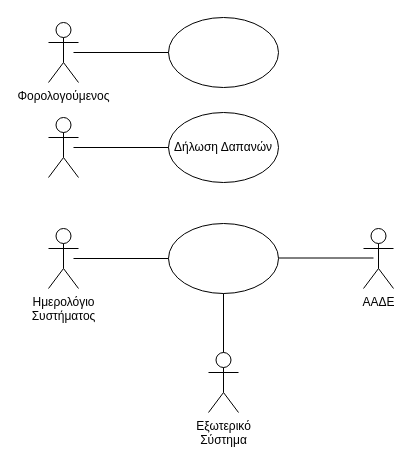
Some shapes in this 411 by 466 pixel diagram are drawn without their labels. The shapes that lost their labels are listed below. From the top down, each one's centre as x and y in pixels, then its label:
At (223,52): "Δήλωση τραπεζικών στοιχείων".
At (63,147): "Υπάλληλος Τράπεζας".
At (223,258): "Υπολογισμός Επιδότησης".
